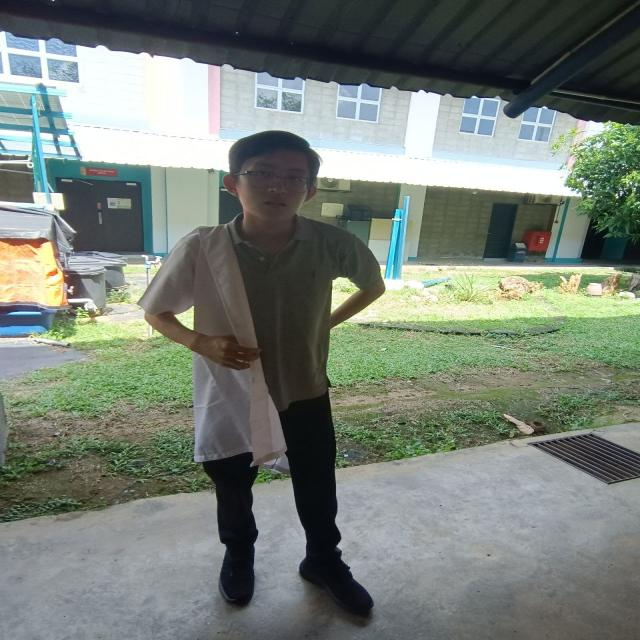person_without_labcoat: (139, 131, 385, 614)
